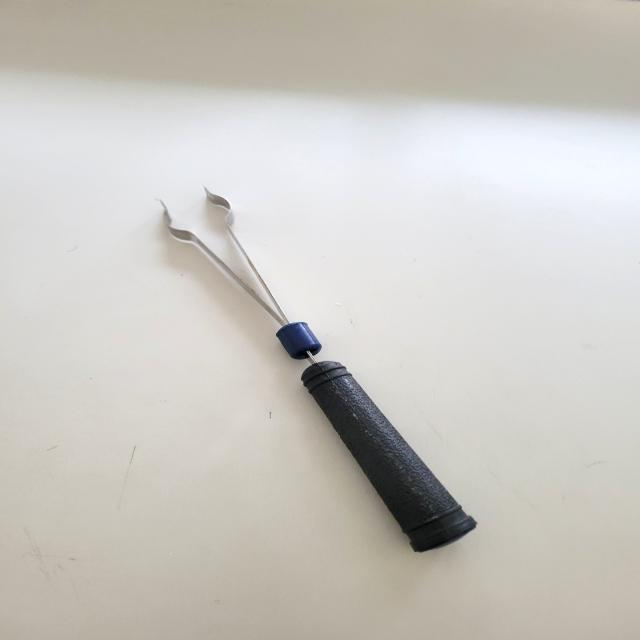TestTube_Holder: (136, 146, 494, 596)
